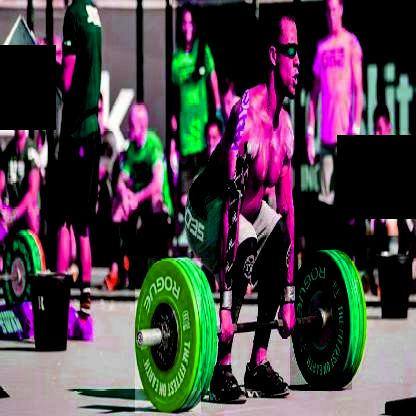barbell: (137, 258, 203, 413), (290, 250, 353, 391)
